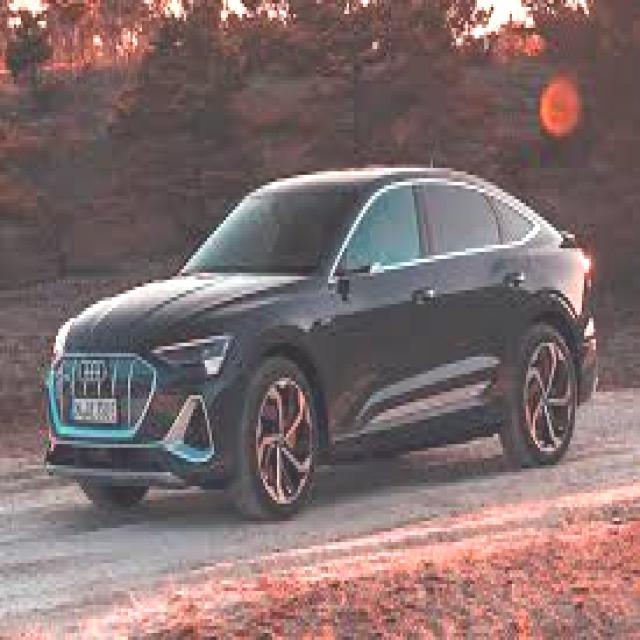SUV: (32, 167, 604, 522)
